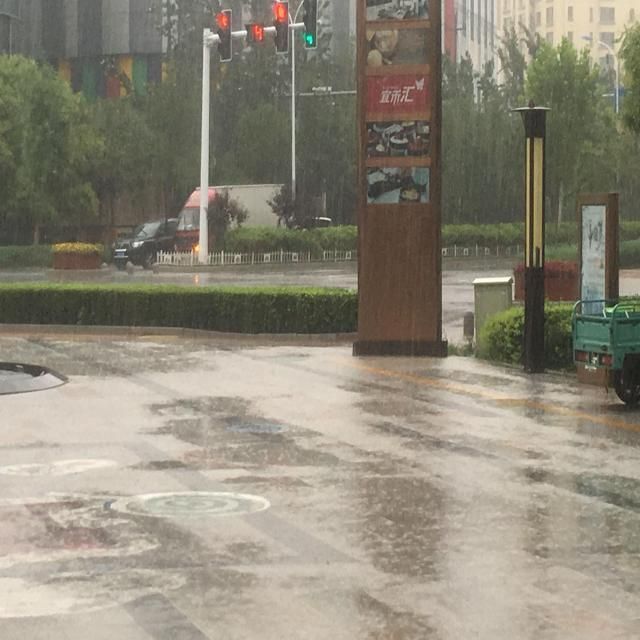car: (111, 220, 178, 270)
